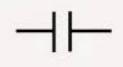Capacitor: (41, 7, 82, 56)
